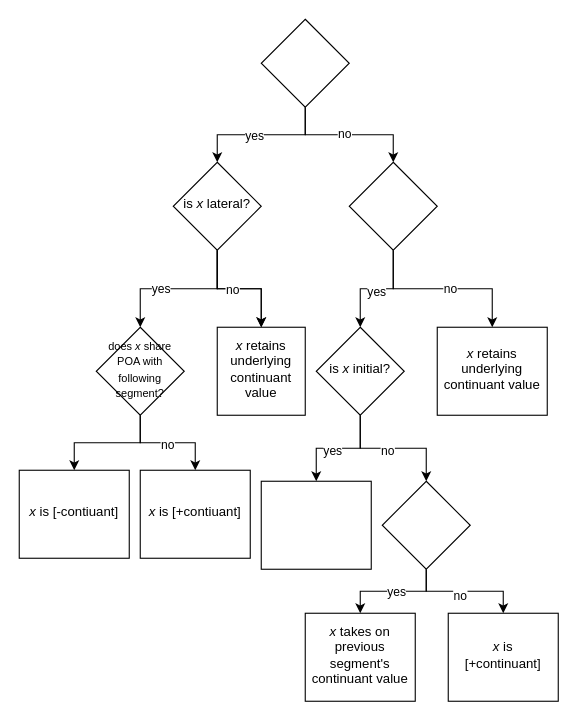
This 578x721 diagram has some shape labels left out. Each missing label, with the box of its shape:
does x share POA with previous segment?: (381, 480, 470, 569)
is x [+voice]?: (348, 161, 437, 250)
is x a sonorant?: (260, 18, 349, 107)
x is [-continuant]: (260, 480, 371, 569)
